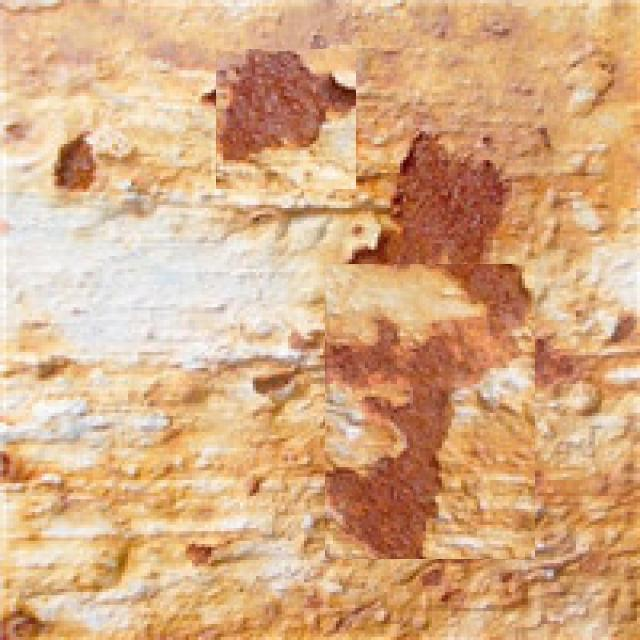Corrosion: (1, 1, 638, 638), (321, 129, 534, 558), (352, 129, 509, 266), (204, 47, 355, 164), (52, 130, 96, 192)
